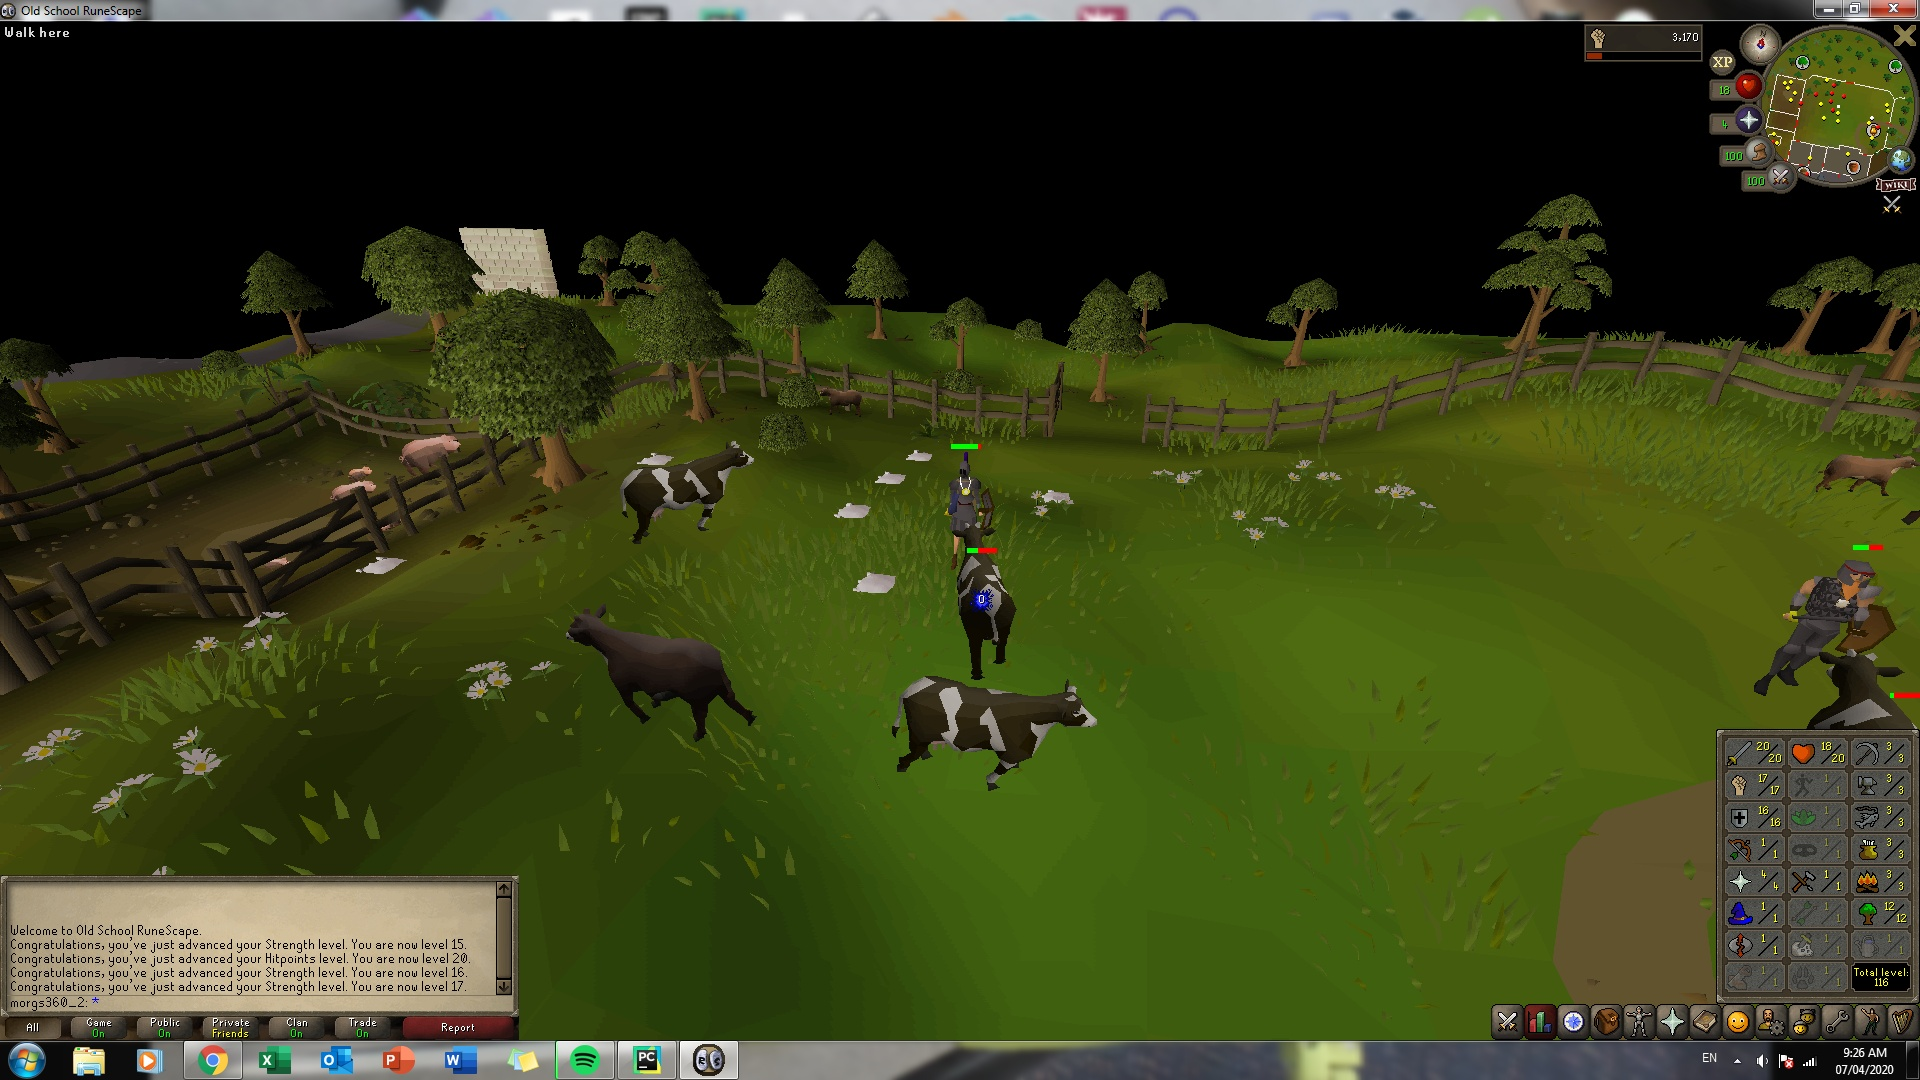cow: (559, 604, 759, 744), (893, 670, 1099, 791), (610, 432, 755, 546), (952, 519, 1019, 690), (1802, 649, 1912, 728), (1820, 447, 1912, 497), (814, 388, 868, 420)
player: (943, 451, 986, 520)
